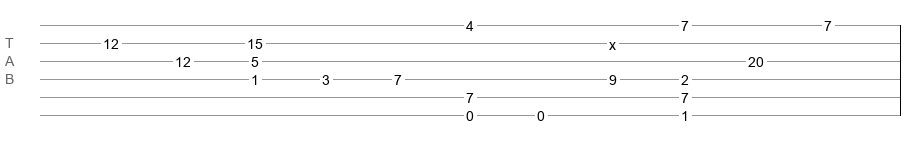0: (466, 108, 474, 118), (537, 108, 545, 118)
1: (251, 72, 259, 82), (681, 108, 689, 118)
12: (103, 36, 119, 46), (175, 54, 191, 64)
15: (247, 36, 263, 46)
2: (681, 72, 689, 82)
20: (748, 54, 764, 64)
3: (322, 72, 330, 82)
4: (466, 18, 474, 28)
5: (251, 54, 259, 64)
7: (394, 72, 402, 82), (466, 90, 474, 100), (681, 18, 689, 28), (681, 90, 689, 100), (824, 18, 832, 28)
9: (609, 72, 617, 82)
x: (609, 37, 616, 45)
